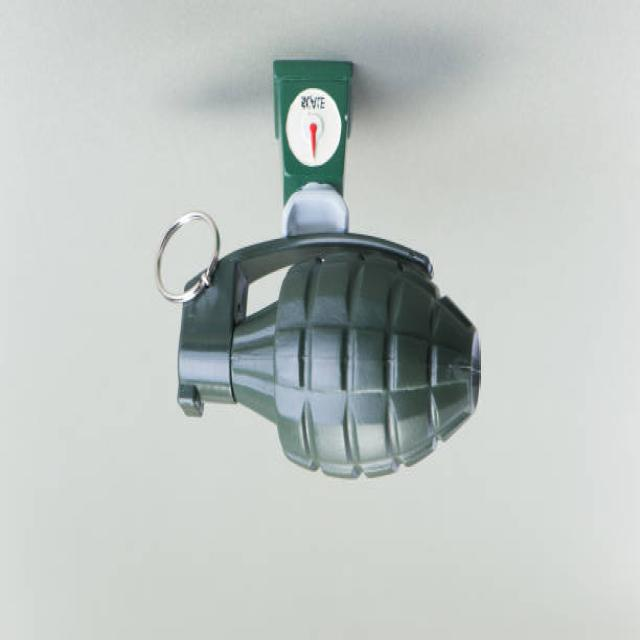grenade: (154, 205, 490, 499)
